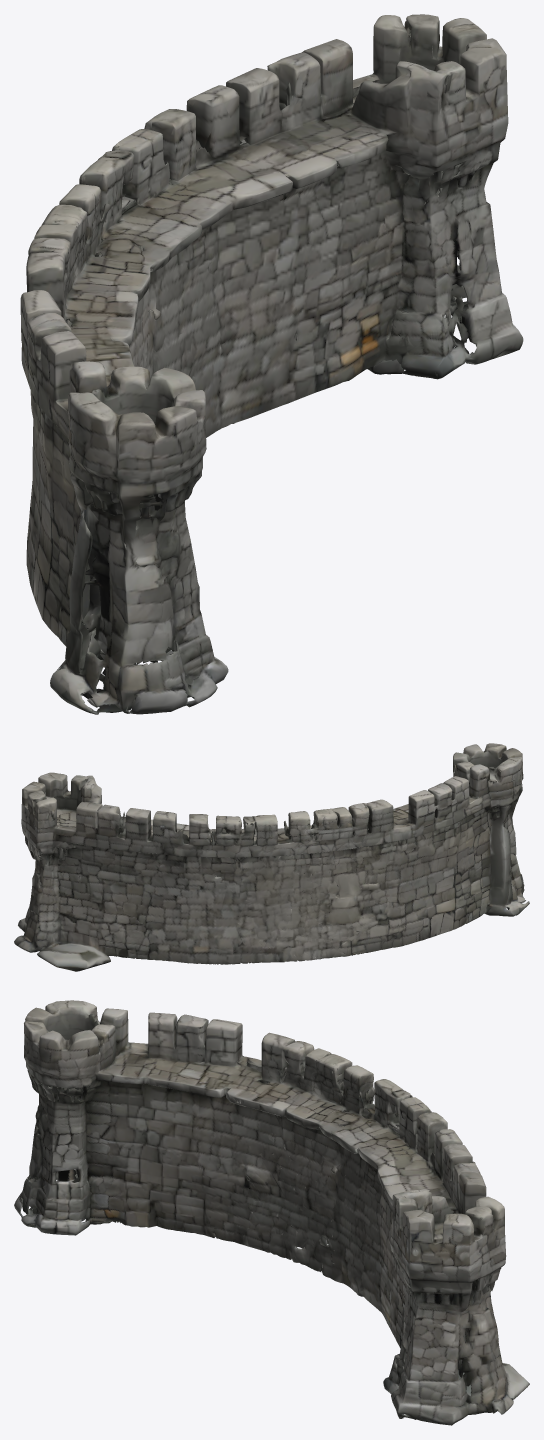
The model's file is city-wall-curve.glb.
The picture shows the model from 3 angles, top to bottom: view 1: azimuth 30°, elevation 25°; view 2: azimuth 150°, elevation 25°; view 3: azimuth 270°, elevation 25°; orthographic projection. The views are drawn at different scales.
Visible parts, largest first — view 1: tripo_node_75b7213a-aae4-4661-baa8-f7cf945a7a6e; view 2: tripo_node_75b7213a-aae4-4661-baa8-f7cf945a7a6e; view 3: tripo_node_75b7213a-aae4-4661-baa8-f7cf945a7a6e.
Boxes of the visible parts, bbox=[...] form: tripo_node_75b7213a-aae4-4661-baa8-f7cf945a7a6e: bbox=[20, 14, 523, 714]; tripo_node_75b7213a-aae4-4661-baa8-f7cf945a7a6e: bbox=[14, 743, 529, 971]; tripo_node_75b7213a-aae4-4661-baa8-f7cf945a7a6e: bbox=[14, 1000, 529, 1425].
Size of the model in its own units: 13.55 by 6 by 12.59.
Materials: 1 (1 with a texture image).
